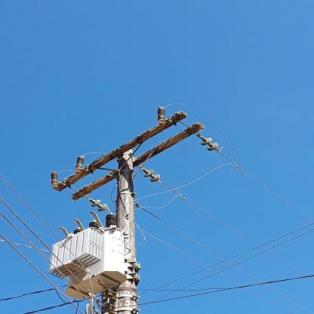Poste: (101, 147, 140, 314)
